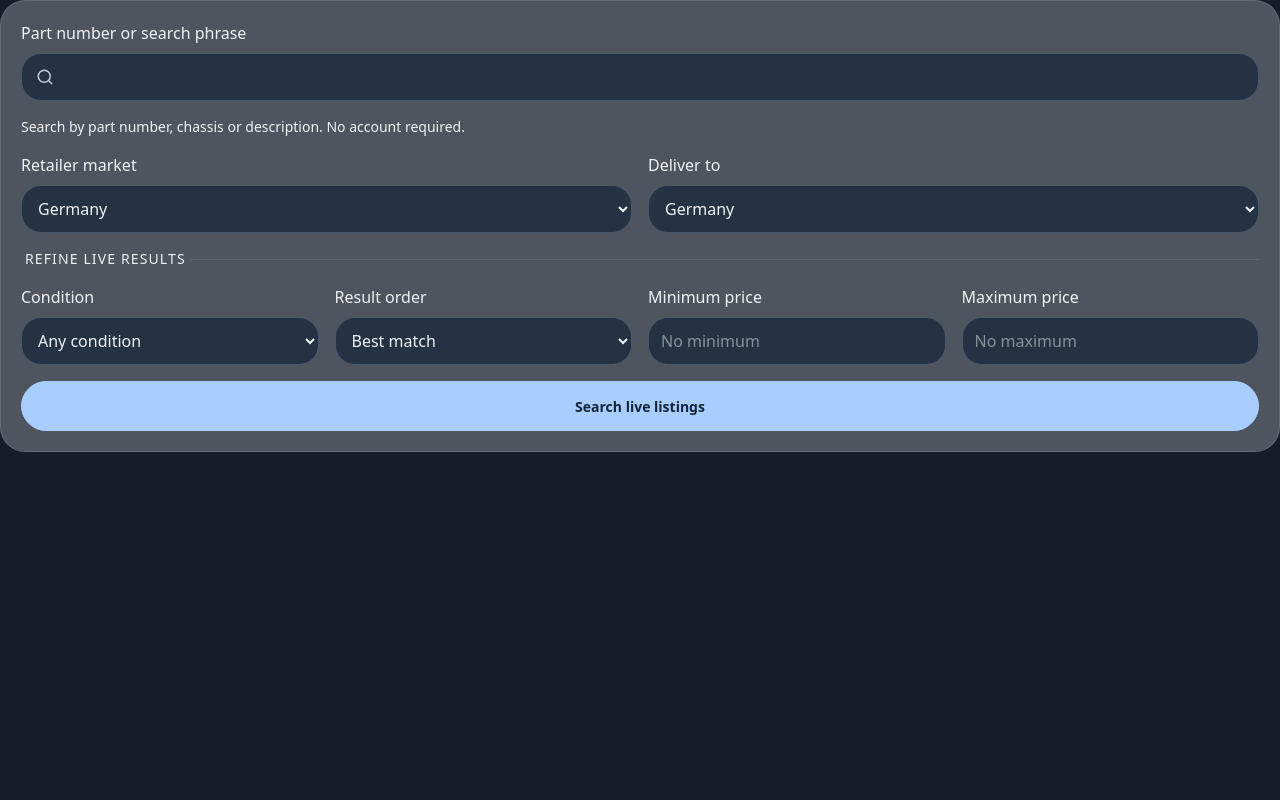
explains an invalid price range without sending a request
The width and height of the screenshot is (1280, 800).
In the search field: (640, 77) top-left (21, 53), bottom-right (1259, 101), type "E90 wheels"
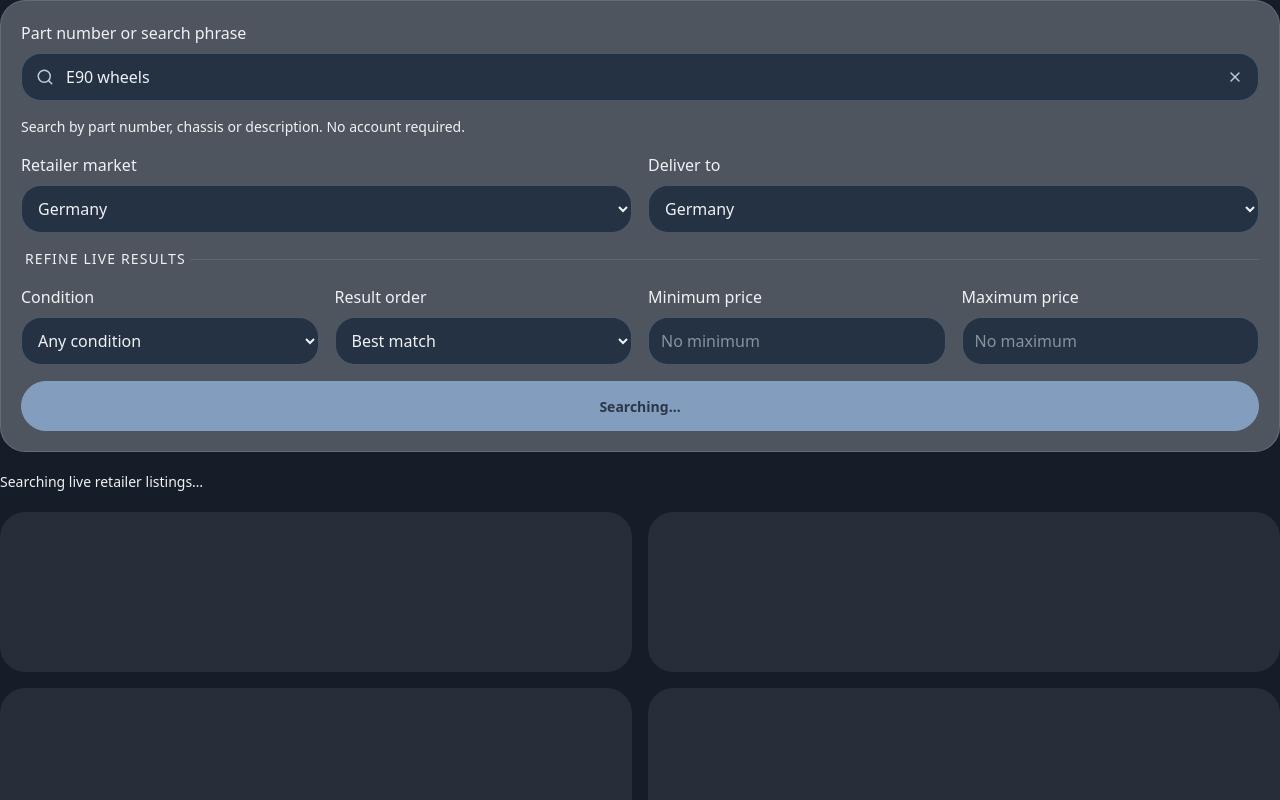
In the number field labelled "Minimum price": (797, 341) top-left (648, 317), bottom-right (946, 365), type "500"
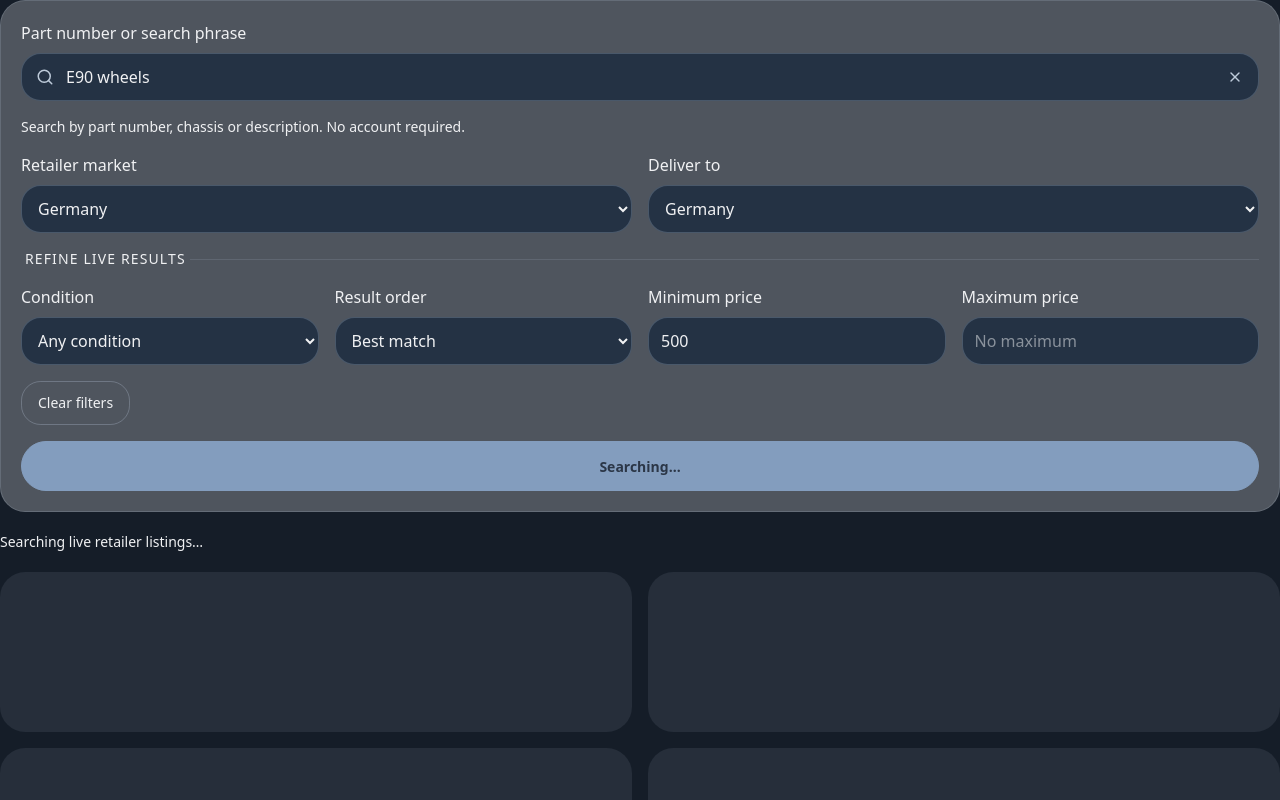
In the number field labelled "Maximum price": (1110, 341) top-left (962, 317), bottom-right (1259, 365), type "100"
Wait 600 ms
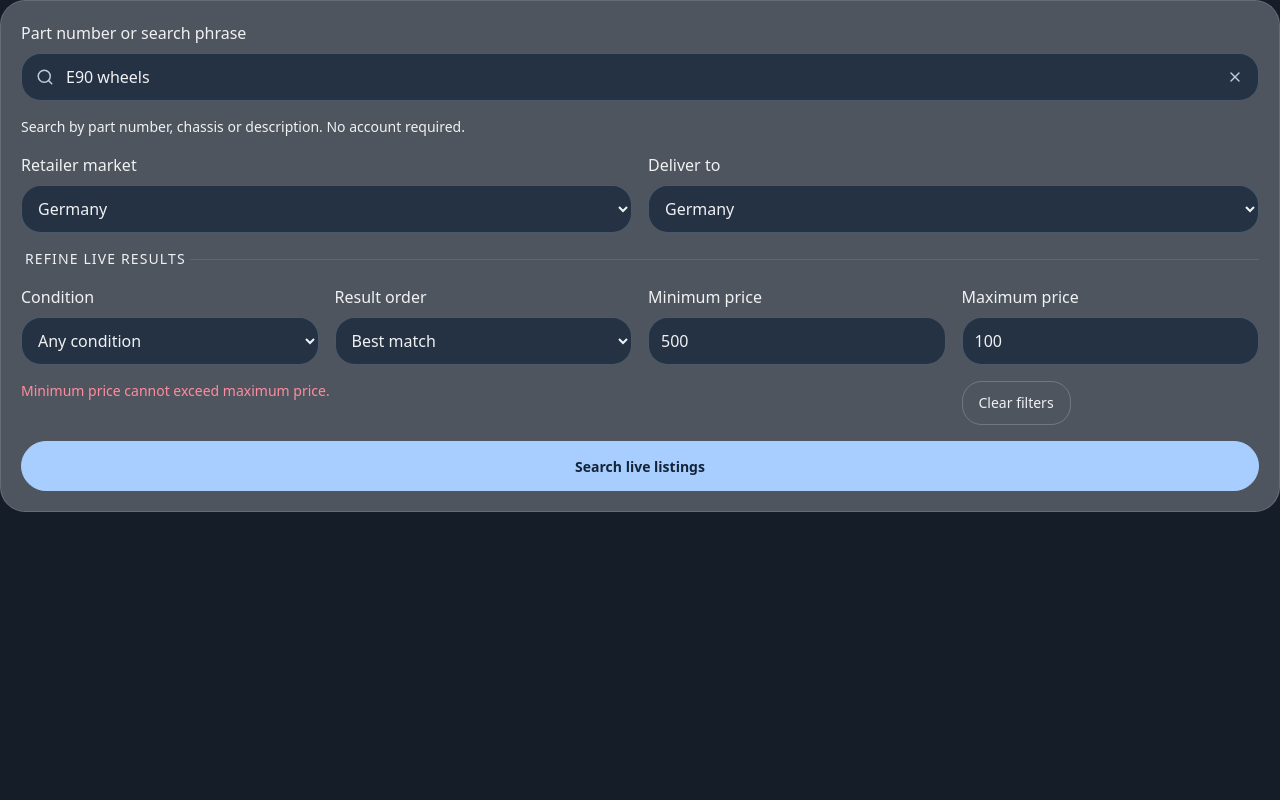
Check: the message shows "Minimum price cannot exceed maximum price", box top-left (21, 381), bottom-right (330, 400)
